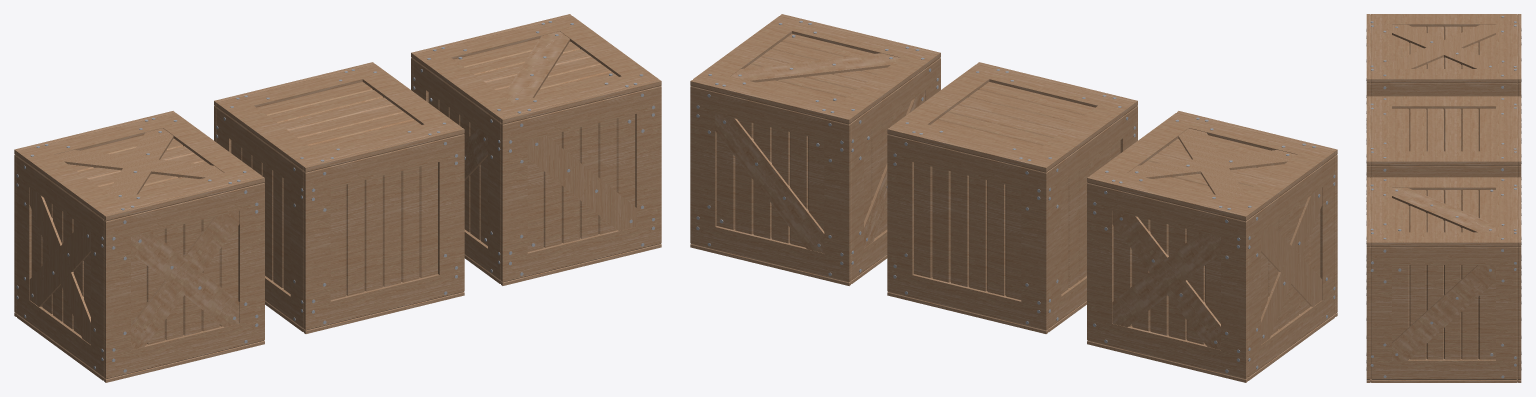
File: ultimate_realistic_wooden_crates_pack.glb
3 views of the same model, side by side, from view 1: azimuth 30°, elevation 25°; view 2: azimuth 150°, elevation 25°; view 3: azimuth 270°, elevation 25° (orthographic). The views are drawn at different scales.
Parts seen in each view (by area): view 1: Cube_0, Cube.002_4, Cube.005_6, Cube.004_5, Cube.003_2, Cube.006_9, Cube.001_1, Cube.008_7, Cube.007_10, Circle.015_3, Circle.002_12; view 2: Cube_0, Cube.002_4, Cube.005_6, Cube.004_5, Cube.003_2, Cube.006_9, Cube.001_1, Cube.009_8, Cube.007_10, Cube.008_7, Circle.015_3, Circle.002_12; view 3: Cube.005_6, Cube.006_9, Cube_0, Cube.002_4, Cube.004_5, Cube.008_7, Cube.003_2, Cube.001_1, Cube.007_10, Circle.015_3, Circle.002_12, Circle.001_11.
Part boxes in pixels (x1,y1,x2,y2): Cube_0: (14,111,264,382); Cube.002_4: (214,62,464,333); Cube.005_6: (411,14,661,285); Cube.004_5: (231,82,437,299); Cube.003_2: (29,128,239,349); Cube.006_9: (428,38,635,251); Cube.001_1: (31,135,238,344); Cube.008_7: (464,48,636,230); Cube.007_10: (504,31,570,102); Circle.015_3: (413,21,655,275); Circle.002_12: (16,117,258,372); Cube_0: (1087,111,1337,382); Cube.002_4: (887,62,1137,333); Cube.005_6: (690,14,940,285); Cube.004_5: (914,82,1120,299); Cube.003_2: (1112,128,1322,349); Cube.006_9: (716,33,911,247); Cube.001_1: (1113,135,1320,344); Cube.009_8: (715,114,824,253); Cube.007_10: (731,53,900,82); Cube.008_7: (864,90,925,248); Circle.015_3: (696,20,938,275); Circle.002_12: (1093,117,1335,372); Cube.005_6: (1366,177,1521,382); Cube.006_9: (1392,190,1495,359); Cube_0: (1366,14,1521,96); Cube.002_4: (1366,96,1521,177); Cube.004_5: (1392,108,1495,151); Cube.008_7: (1392,265,1495,360); Cube.003_2: (1392,24,1495,68); Cube.001_1: (1392,26,1495,68); Cube.007_10: (1392,188,1495,232); Circle.015_3: (1366,179,1521,378); Circle.002_12: (1366,16,1521,204); Circle.001_11: (1366,98,1521,289).
Size of the model in its own units: 7.23 by 2.07 by 2.08.
3 materials, 3 textured.
